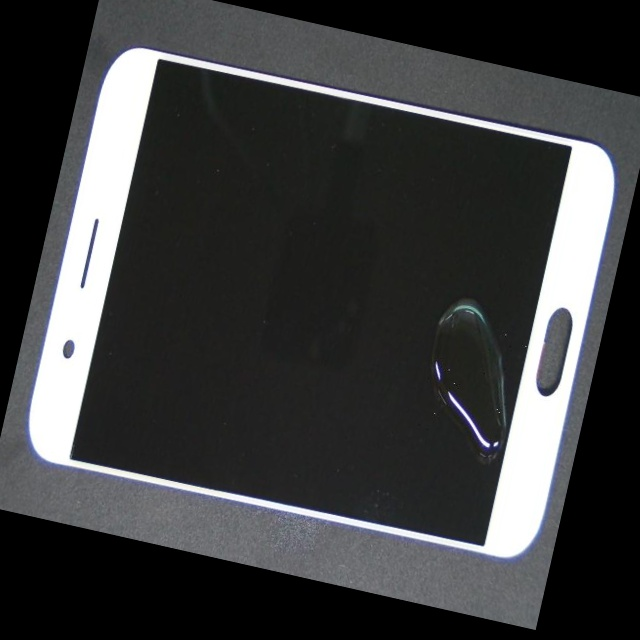oil: (238, 136, 630, 474)
